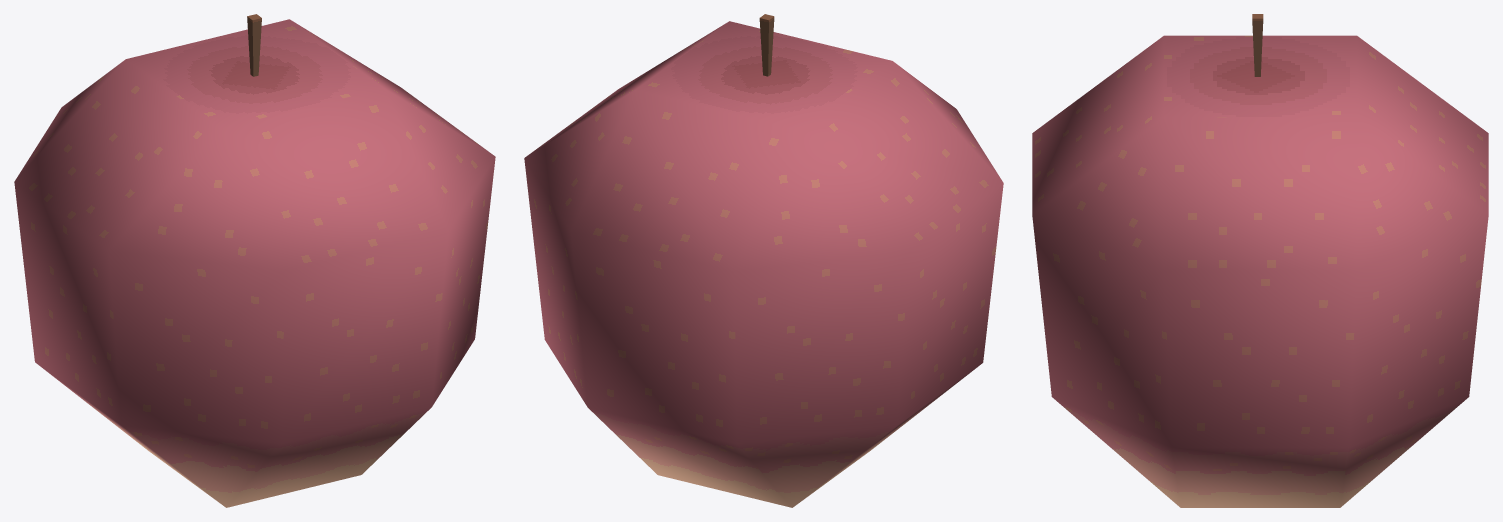
Rendered from 03e2_Monster_Apple.glb.
3 views of the same model, side by side, from view 1: azimuth 30°, elevation 25°; view 2: azimuth 150°, elevation 25°; view 3: azimuth 270°, elevation 25° (orthographic). The views are drawn at different scales.
Visible parts, largest first — view 1: part_0; view 2: part_0; view 3: part_0.
Part boxes in pixels (x1,y1,x2,y2): part_0: [14, 14, 495, 507]; part_0: [524, 14, 1003, 507]; part_0: [1032, 14, 1488, 507].
Bounding box in the file's own units: 0.1507 × 0.1665 × 0.1507.
1 material, 1 textured.
